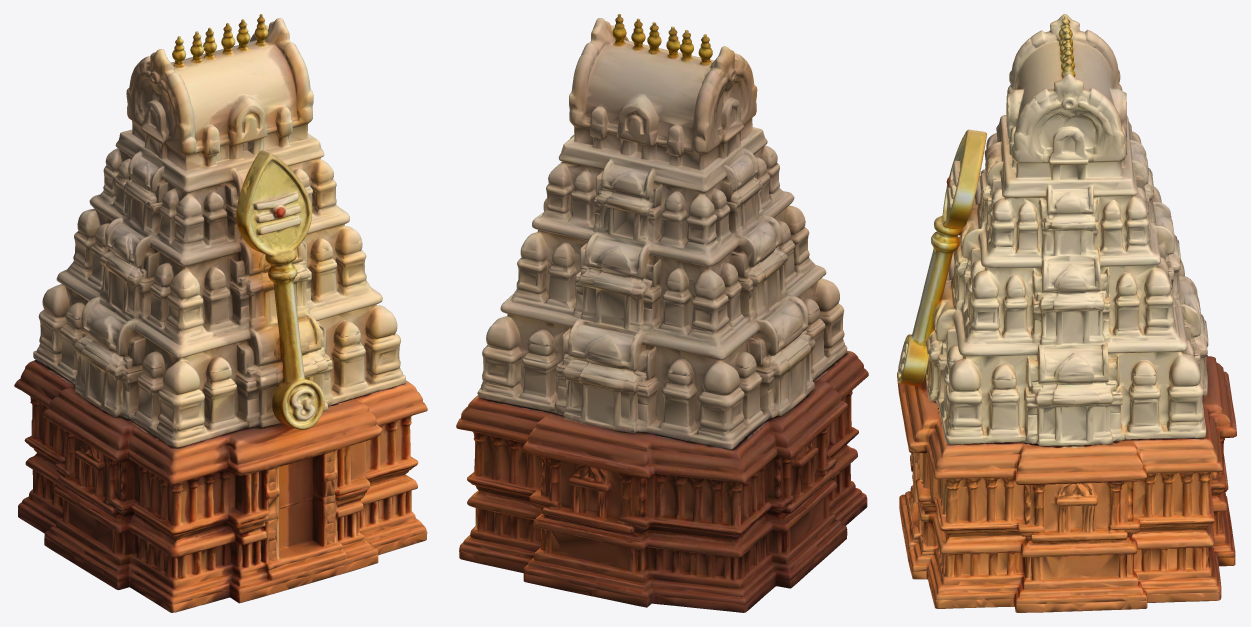
The model's file is temple-tower.glb.
3 renders of one model, left to right at view 1: azimuth 30°, elevation 25°; view 2: azimuth 150°, elevation 25°; view 3: azimuth 270°, elevation 25°, orthographic.
Parts seen in each view (by area): view 1: tripo_node_48a9e7df-2825-410e-83a8-d458393aa2ca; view 2: tripo_node_48a9e7df-2825-410e-83a8-d458393aa2ca; view 3: tripo_node_48a9e7df-2825-410e-83a8-d458393aa2ca.
Boxes of the visible parts, x1,y1,x2,y2 form: tripo_node_48a9e7df-2825-410e-83a8-d458393aa2ca: (14,14,427,612); tripo_node_48a9e7df-2825-410e-83a8-d458393aa2ca: (456,14,868,612); tripo_node_48a9e7df-2825-410e-83a8-d458393aa2ca: (897,14,1236,612).
Size of the model in its own units: 0.6169 by 0.9782 by 0.598.
Materials: 1 (1 with a texture image).
